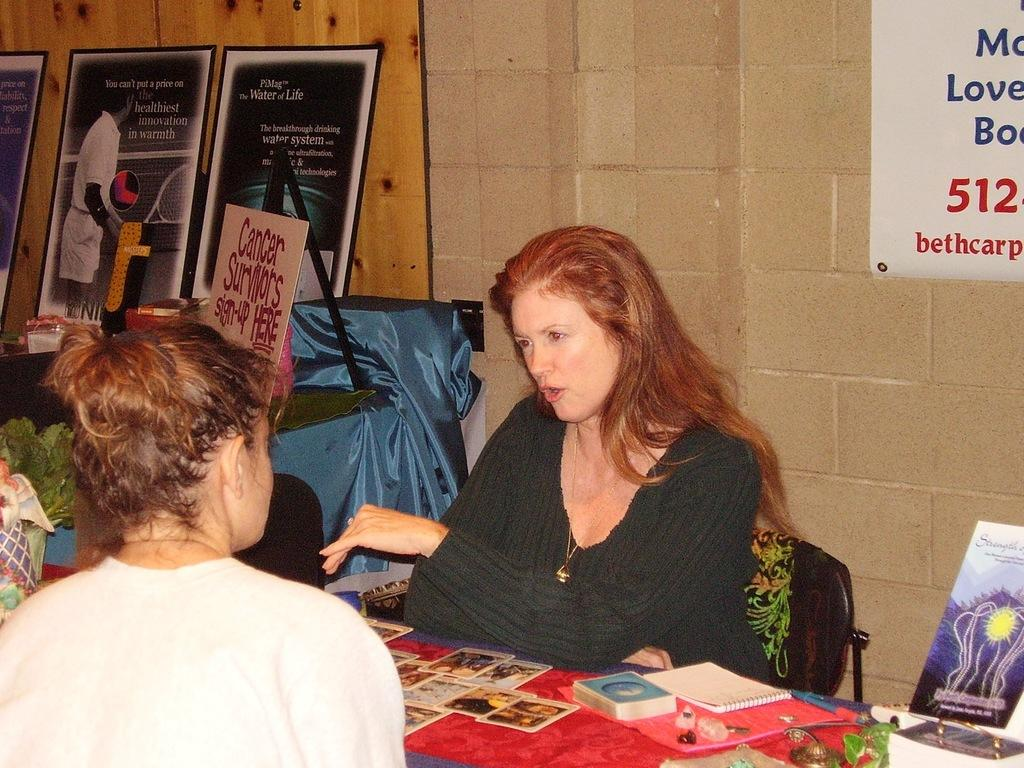Sem Máscara: (507, 282, 625, 428), (229, 417, 279, 551)
